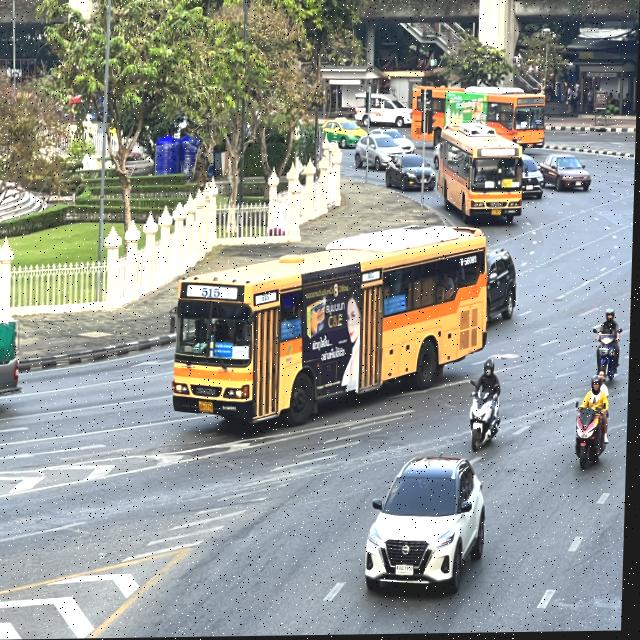BMTA-bus: (172, 223, 492, 429), (437, 124, 527, 226), (412, 88, 547, 152)
Bus-Line-Number: (200, 284, 224, 300), (495, 150, 505, 157), (526, 100, 536, 106)
Destination-Sign-Normal: (215, 342, 234, 358), (503, 181, 514, 188), (535, 121, 543, 127)
